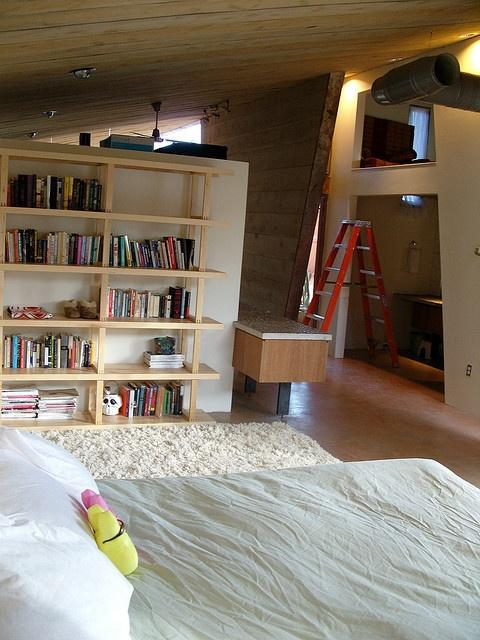Rak: (0, 148, 235, 431)
